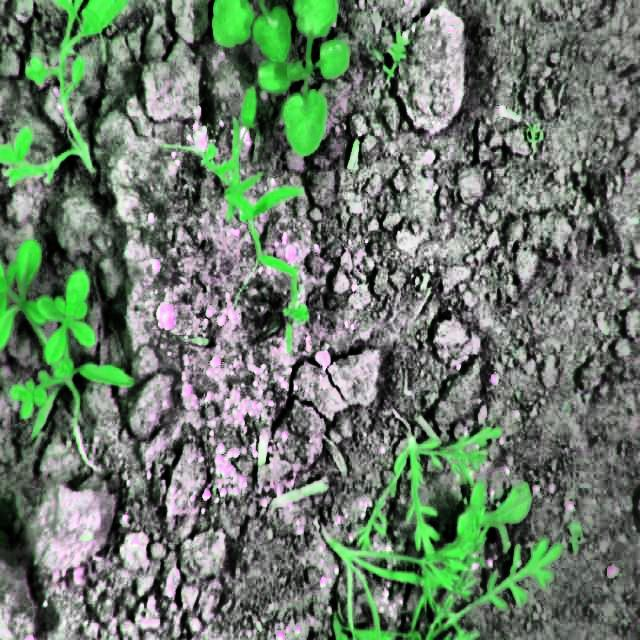Weeds: (0, 0, 119, 199), (199, 0, 350, 146)
undefined: (320, 411, 571, 638), (184, 129, 308, 345), (1, 236, 132, 425)
